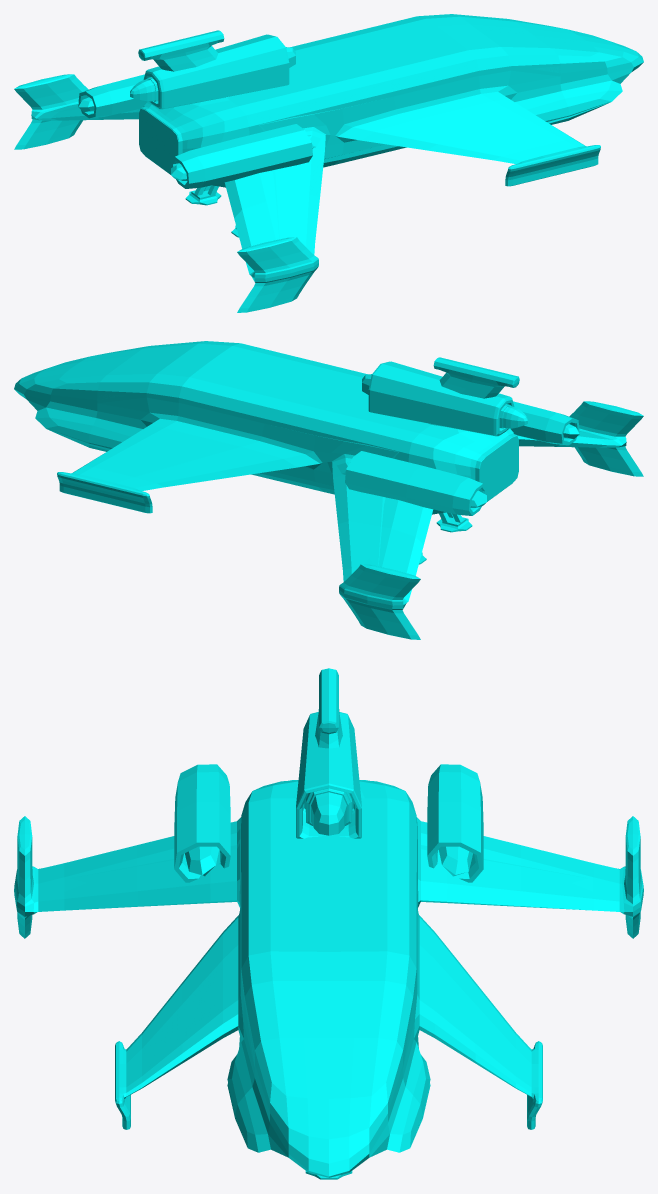
Rendered from spaceship_9.dae.
3 renders of one model, top to bottom at view 1: azimuth 30°, elevation 25°; view 2: azimuth 150°, elevation 25°; view 3: azimuth 270°, elevation 25°, orthographic. The views are drawn at different scales.
Visible parts, largest first — view 1: Cube (×3), Cube.1; view 2: Cube (×3), Cube.1; view 3: Cube (×3).
Part boxes in pixels (box(x1,y1,x2,y2)): Cube (×3): box(14, 14, 643, 312); Cube.1: box(185, 185, 238, 237); Cube (×3): box(14, 341, 643, 639); Cube.1: box(419, 512, 472, 564); Cube (×3): box(14, 668, 643, 1177).
Bounding box in the file's own units: 1937 × 663 × 1496.
